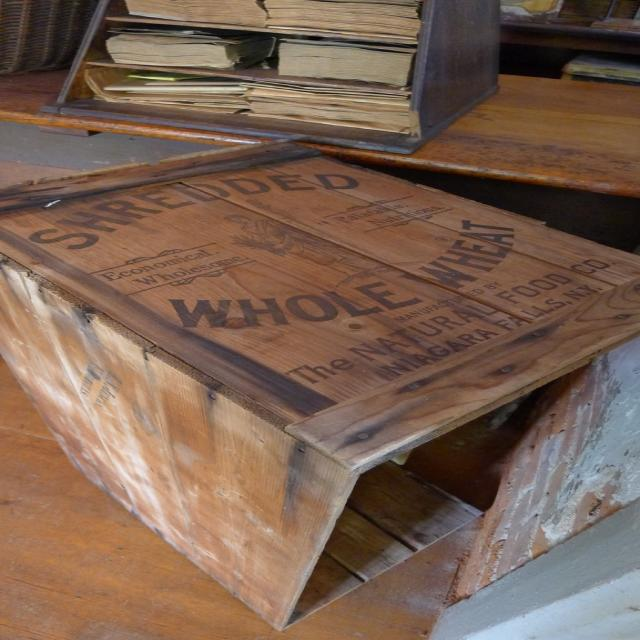Box: (0, 139, 640, 631)
